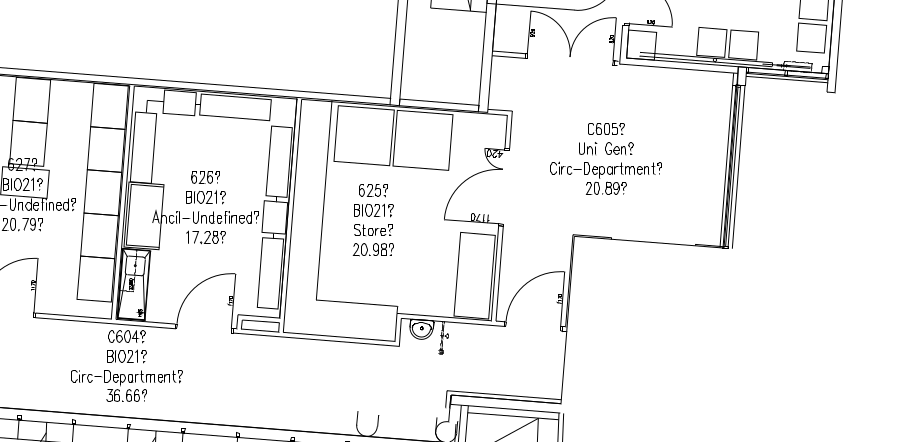door: (521, 9, 619, 68), (439, 144, 505, 229), (503, 265, 566, 334), (170, 268, 236, 331)
